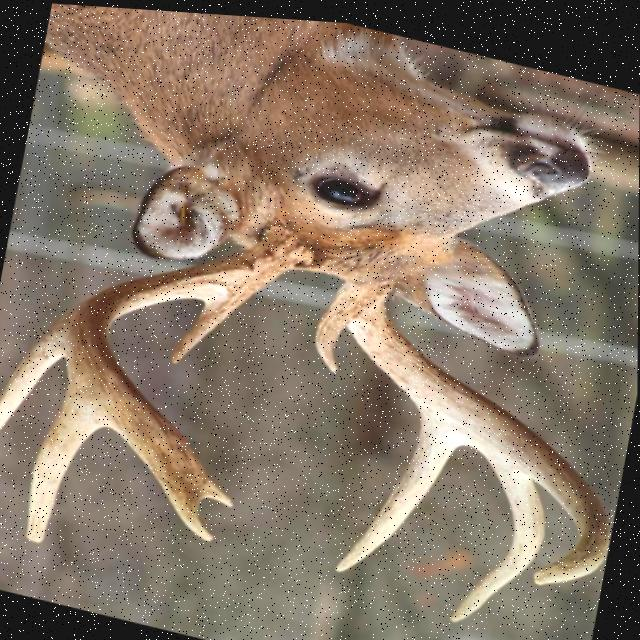E1: (160, 482, 215, 539)
L-F: (58, 222, 314, 504)
L-G1: (170, 284, 254, 362)
L-G2: (0, 323, 64, 431)
R-F: (346, 265, 611, 577)
R-G1: (314, 291, 356, 367)
R-G2: (334, 403, 466, 567)
R-G3: (449, 451, 545, 616)
